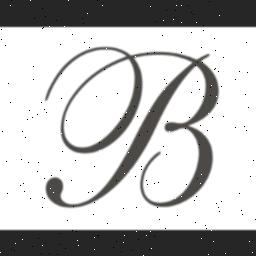b: (142, 30, 236, 224)
